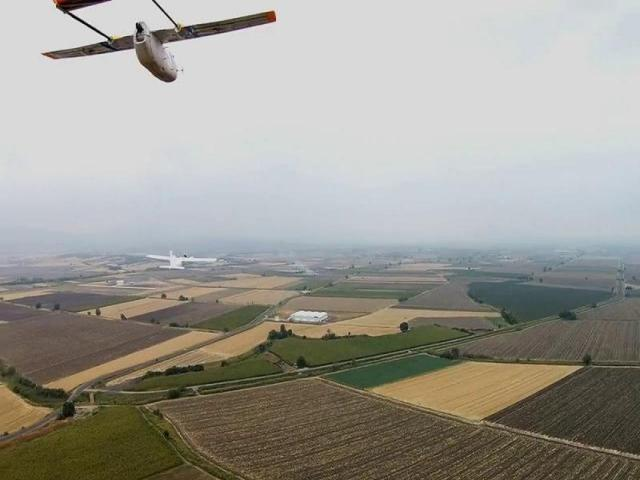hedef: (28, 0, 291, 95), (136, 241, 230, 288)
